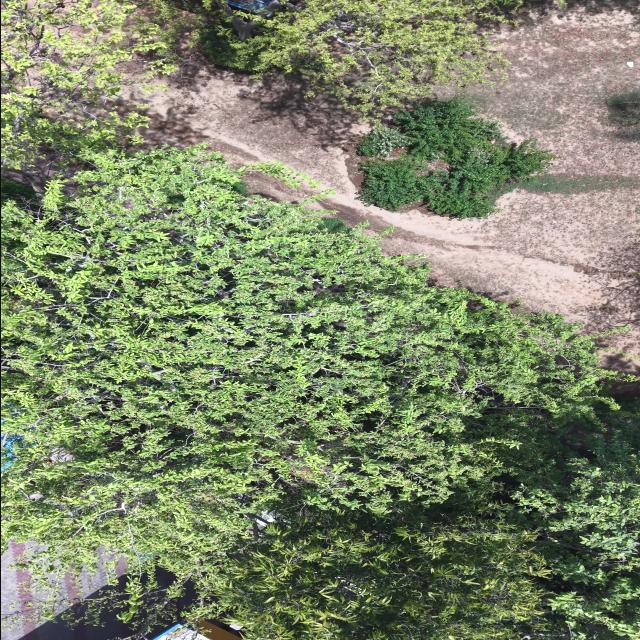DRY_AREA: (133, 3, 639, 372), (151, 71, 638, 314), (438, 3, 639, 176), (1, 541, 127, 639)
VEGETATION_TREE: (1, 92, 639, 639), (1, 148, 617, 618), (3, 148, 609, 571), (212, 405, 639, 639), (214, 499, 551, 639), (200, 0, 522, 110), (504, 399, 639, 638), (1, 0, 183, 167), (357, 101, 553, 218), (518, 175, 638, 195), (601, 89, 639, 141), (607, 91, 639, 127)
